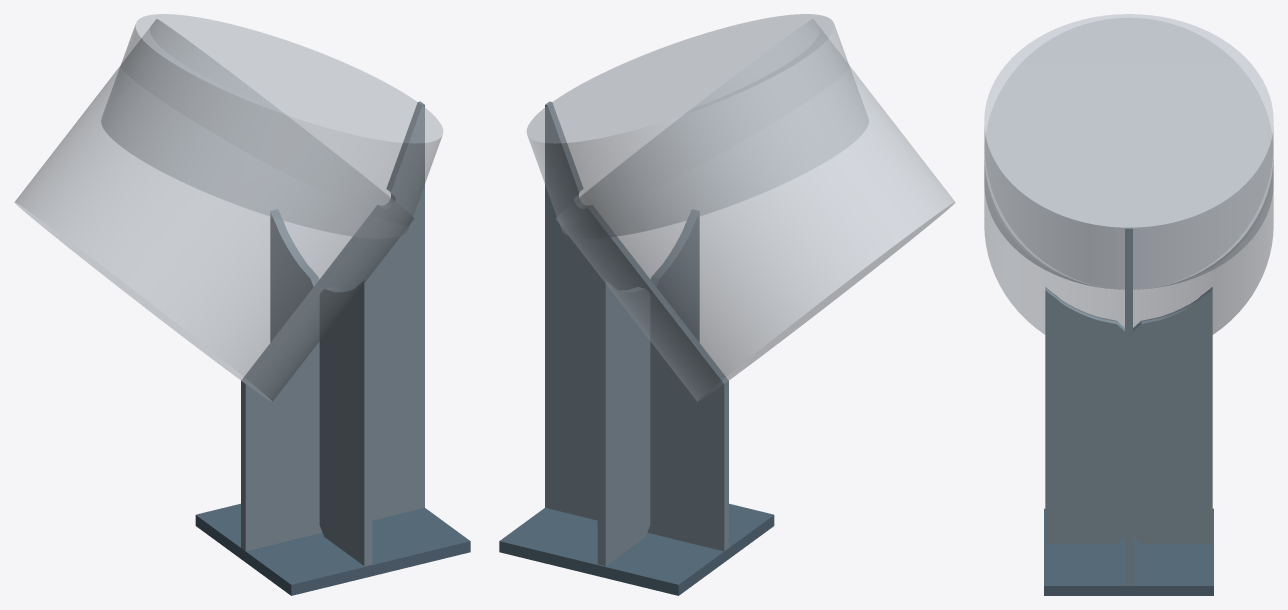
File: TS-631.000-07-opora-dn426-R640.glb
3 views of the same model, side by side, from view 1: azimuth 30°, elevation 25°; view 2: azimuth 150°, elevation 25°; view 3: azimuth 270°, elevation 25° (orthographic). The views are drawn at different scales.
Parts seen in each view (by area): view 1: truba_1, truba_0, kosynka_1, rebro_3, osnovanie_0, rebro_2; view 2: truba_1, truba_0, kosynka_1, rebro_2, osnovanie_0, rebro_3; view 3: truba_1, truba_0, rebro_2, rebro_3, osnovanie_0, kosynka_1.
Boxes of the visible parts, left/top/right/bottom form: truba_1: left=14, top=19, right=414, bottom=401; truba_0: left=101, top=14, right=443, bottom=238; kosynka_1: left=241, top=101, right=424, bottom=551; rebro_3: left=319, top=278, right=372, bottom=566; osnovanie_0: left=195, top=503, right=470, bottom=595; rebro_2: left=270, top=209, right=319, bottom=342; truba_1: left=555, top=19, right=955, bottom=401; truba_0: left=526, top=14, right=868, bottom=238; kosynka_1: left=545, top=101, right=728, bottom=551; rebro_2: left=597, top=278, right=650, bottom=566; osnovanie_0: left=499, top=503, right=774, bottom=595; rebro_3: left=650, top=209, right=699, bottom=342; truba_1: left=984, top=17, right=1273, bottom=334; truba_0: left=984, top=14, right=1273, bottom=289; rebro_2: left=1133, top=287, right=1212, bottom=543; rebro_3: left=1045, top=287, right=1124, bottom=543; osnovanie_0: left=1044, top=508, right=1213, bottom=595; kosynka_1: left=1125, top=227, right=1132, bottom=585.
Bounding box in the file's own units: 571 × 772 × 426.
